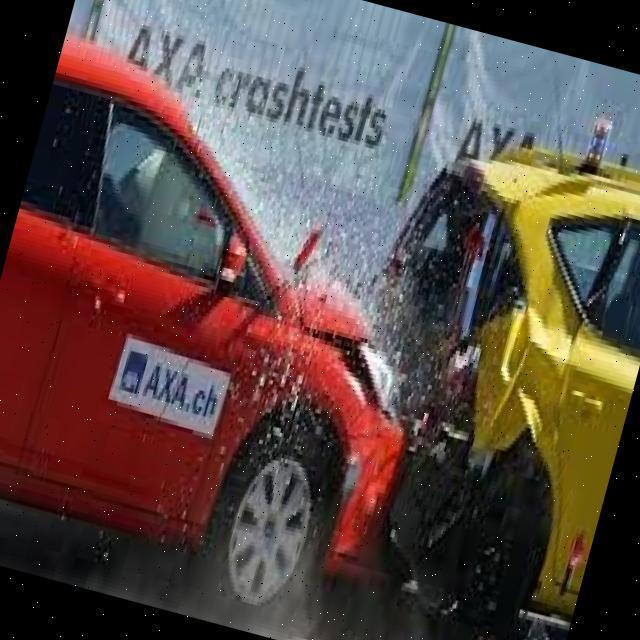accident: (139, 47, 640, 640)
